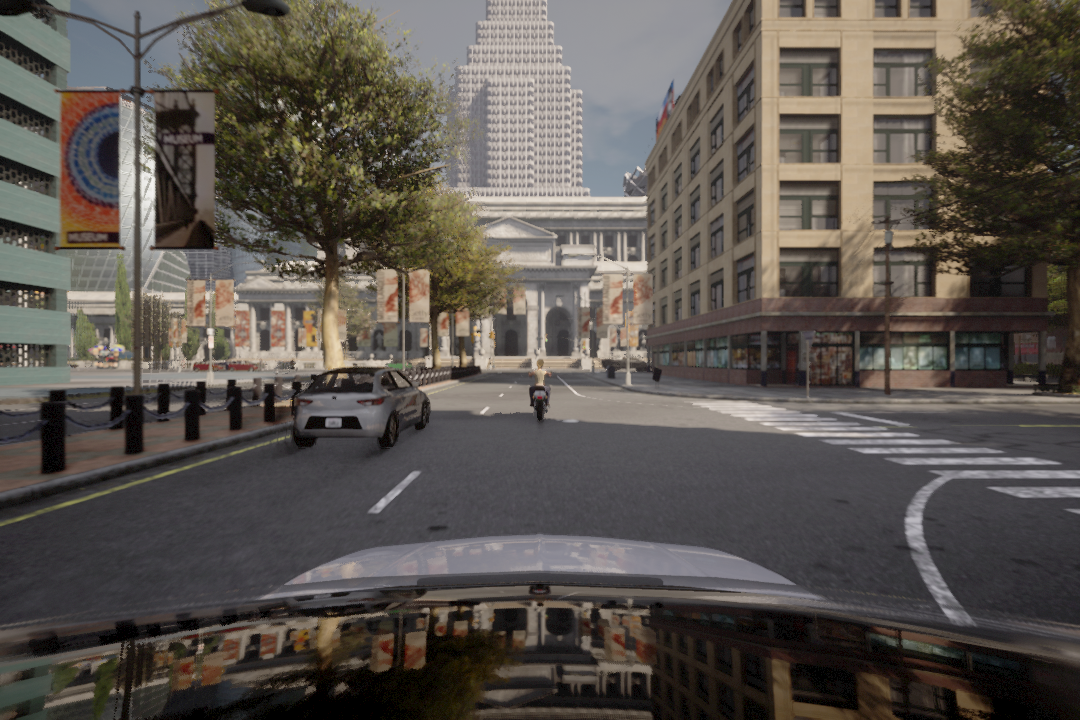walkside: (690, 399, 1080, 518)
